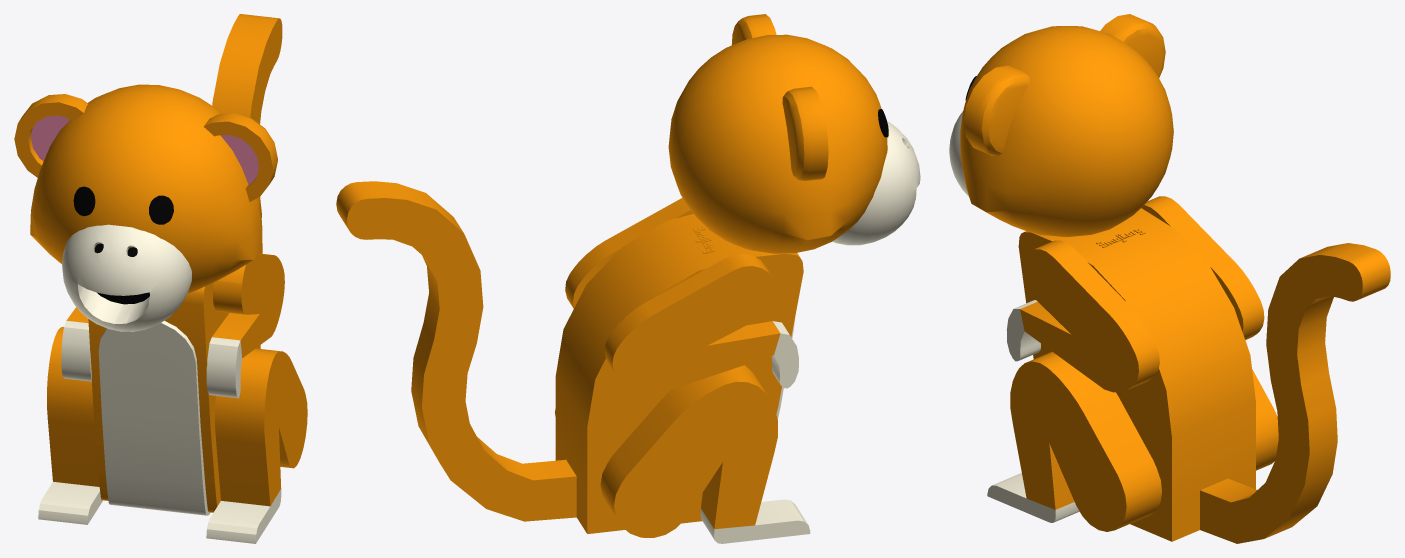
File: monkey.fbx
3 renders of one model, left to right at view 1: azimuth 30°, elevation 25°; view 2: azimuth 150°, elevation 25°; view 3: azimuth 270°, elevation 25°, orthographic. The views are drawn at different scales.
Parts seen in each view (by area): view 1: Cube.6142; view 2: Cube.6142; view 3: Cube.6142.
Boxes of the visible parts, x1,y1,x2,y2 form: Cube.6142: [14, 14, 307, 543]; Cube.6142: [336, 14, 920, 543]; Cube.6142: [949, 14, 1390, 543].
Size of the model in its own units: 176 by 189 by 176.
Materials: 1 (1 with a texture image).
